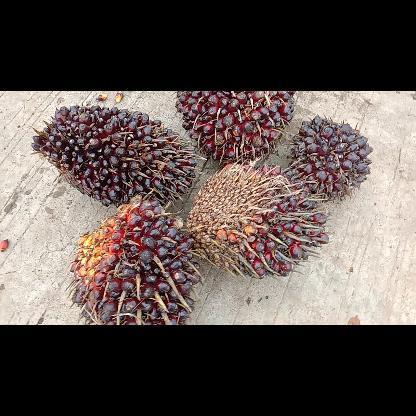TBS mentah: (30, 104, 200, 206), (65, 198, 201, 324), (186, 160, 330, 278), (172, 91, 294, 163), (291, 114, 371, 202)
